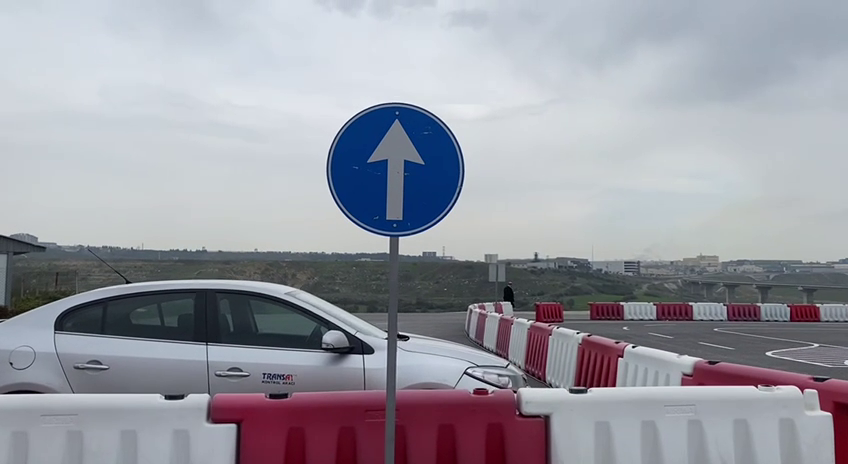forward: (325, 98, 467, 239)
